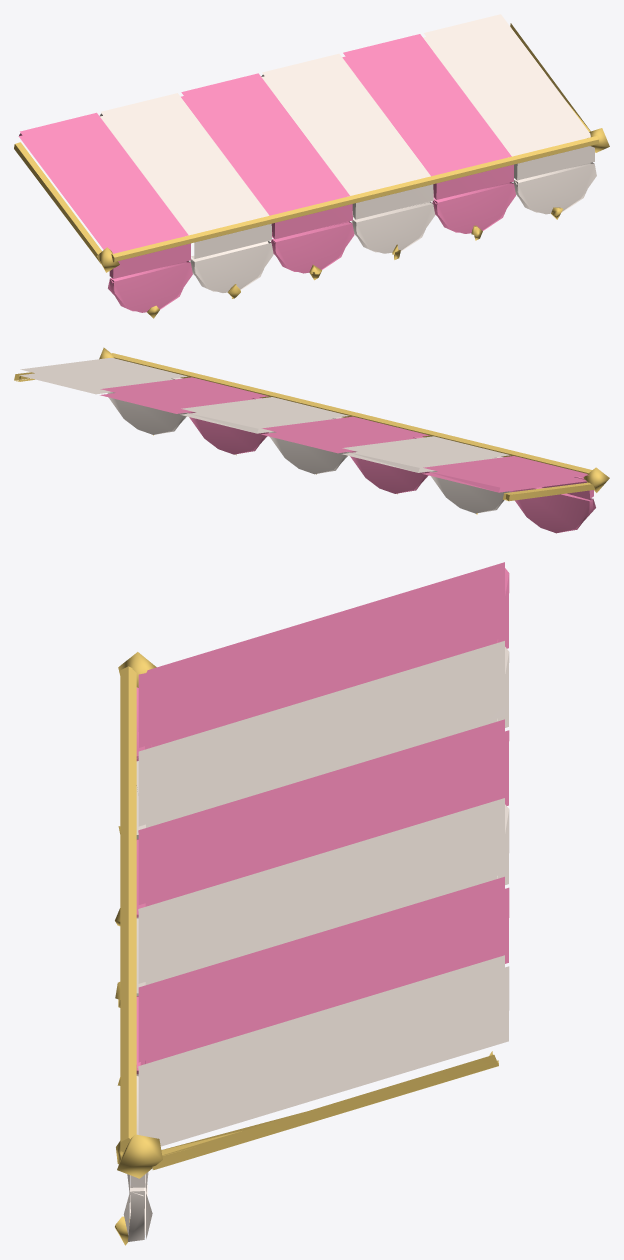
The model's file is lod_awning_striped.glb.
3 views of the same model, one above another, from view 1: azimuth 30°, elevation 25°; view 2: azimuth 150°, elevation 25°; view 3: azimuth 270°, elevation 25° (orthographic). The views are drawn at different scales.
Visible parts, largest first — view 1: awning_striped; view 2: awning_striped; view 3: awning_striped.
Part boxes in pixels (x1,y1,x2,y2): awning_striped: (14, 14, 609, 318); awning_striped: (14, 347, 609, 533); awning_striped: (115, 562, 509, 1245).
Bounding box in the file's own units: 3.76 × 0.9017 × 1.27.
